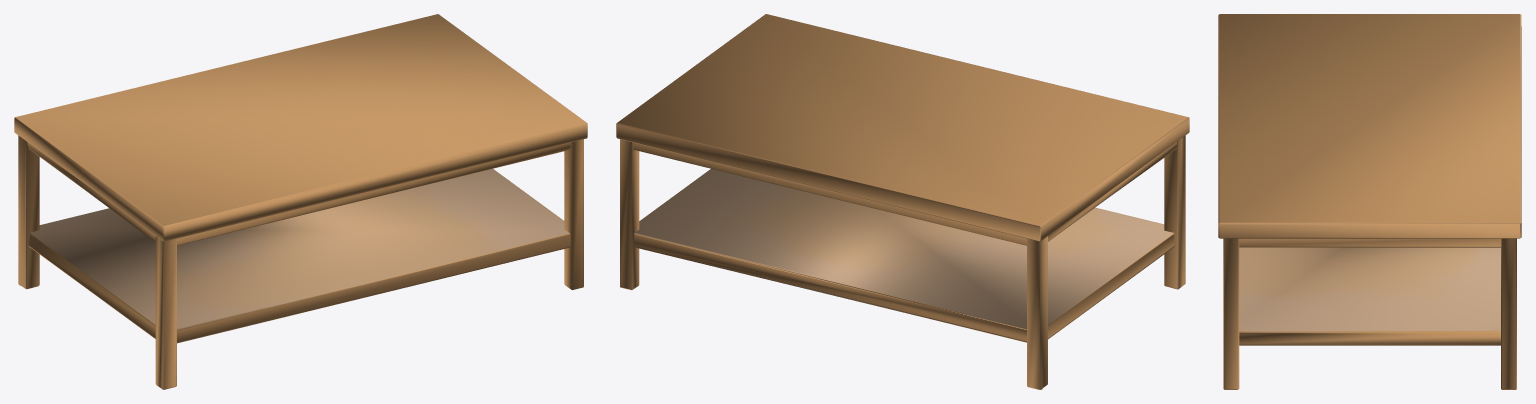
Rendered from coffee_table.fbx.
3 renders of one model, left to right at view 1: azimuth 30°, elevation 25°; view 2: azimuth 150°, elevation 25°; view 3: azimuth 270°, elevation 25°, orthographic.
Parts seen in each view (by area): view 1: Mesh_0; view 2: Mesh_0; view 3: Mesh_0.
Part boxes in pixels (<box>): Mesh_0: <box>14,14,587,389</box>; Mesh_0: <box>616,14,1189,389</box>; Mesh_0: <box>1218,14,1521,389</box>.
Bounding box in the file's own units: 94.97 × 35.55 × 58.06.
1 material, 1 textured.
